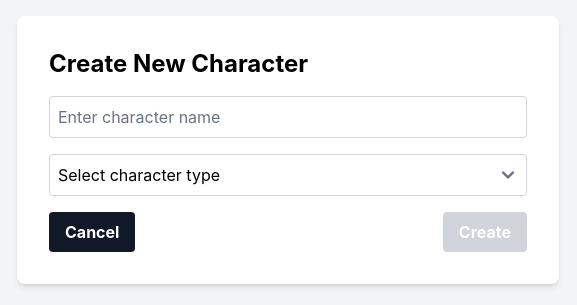
Test: CreateCharacterPage › form validation - character type is required
The width and height of the screenshot is (577, 305).
Type "Test Character" into the field with test id "character-name-input" at (288, 117), box [49,96,527,138]
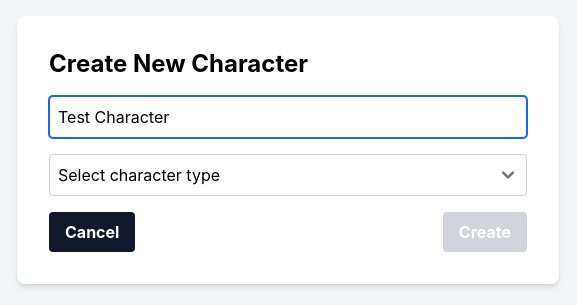
Select "Magus" in the dropdown with test id "character-type-select" at (288, 175), box [49,154,527,196]
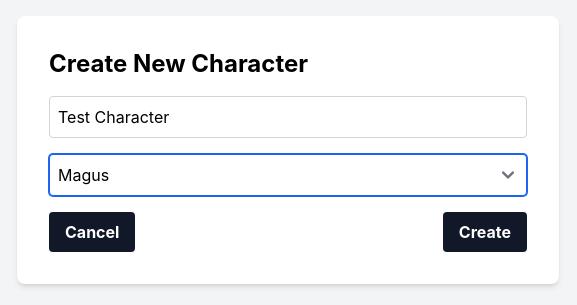
Result: the button with test id "create-button" is enabled at [443,212,527,252]
